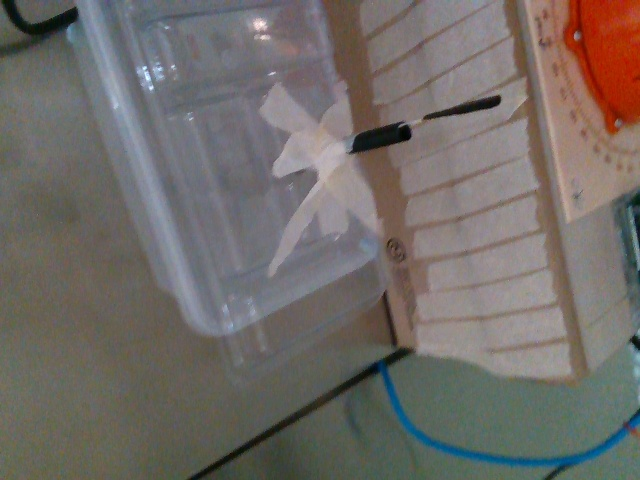test_strip: (400, 94, 500, 126)
